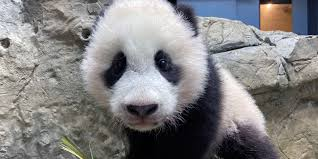panda: (76, 2, 277, 159)
